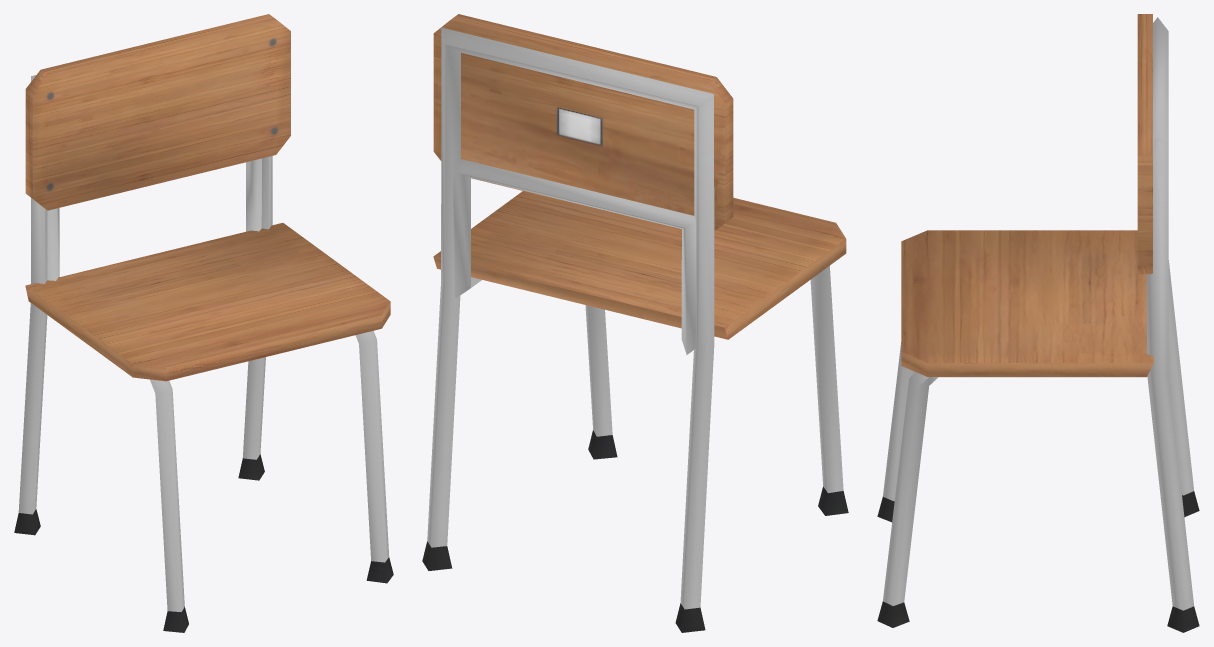
File: low_poly_school_chair.glb
3 views of the same model, side by side, from view 1: azimuth 30°, elevation 25°; view 2: azimuth 150°, elevation 25°; view 3: azimuth 270°, elevation 25° (orthographic). The views are drawn at different scales.
Parts seen in each view (by area): view 1: Chair.002; view 2: Chair.002; view 3: Chair.002.
Part boxes in pixels (bbox=[...]): Chair.002: bbox=[14, 14, 393, 632]; Chair.002: bbox=[422, 14, 848, 632]; Chair.002: bbox=[877, 14, 1199, 632].
Size of the model in its own units: 0.5798 by 1.01 by 0.5953.
1 material, 1 textured.
